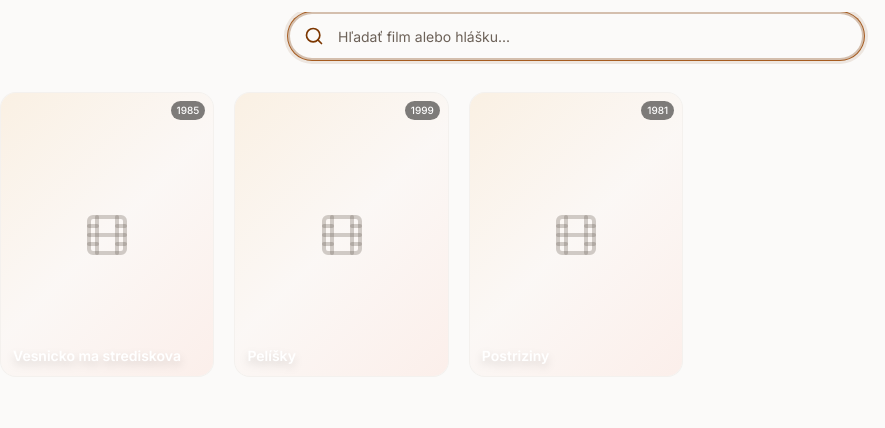
Scenario: MovieSearch › shows results count badge when searching
Step 1. Type "Pelíšky" into the field with placeholder "Hľadať film alebo hlášku..." → (576, 36), box [288,12,864,60]
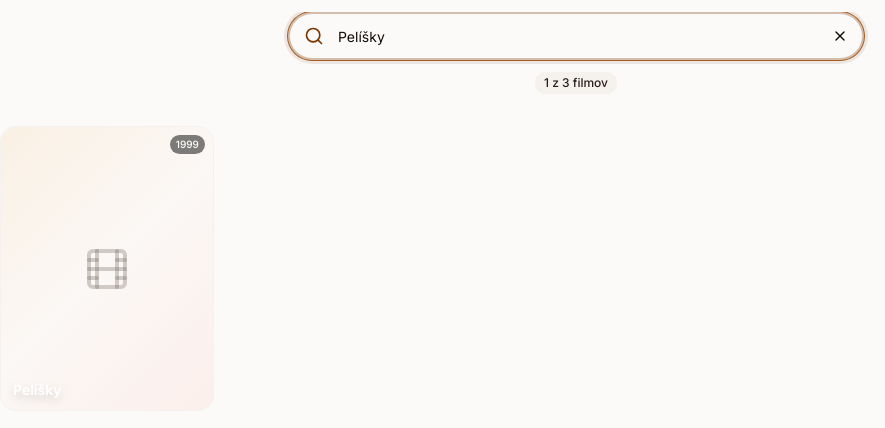
Now the text "1 z 3 filmov" is shown, box [535,72,617,94]
